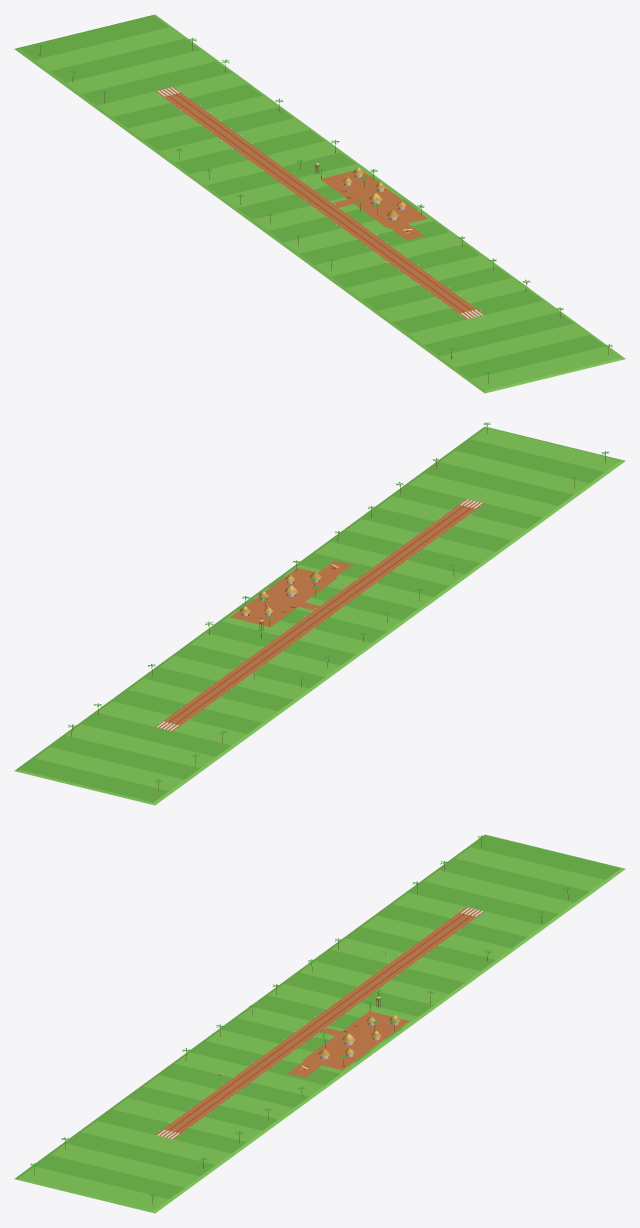
Rendered from AeropuertoJungla.fbx.
The picture shows the model from 3 angles, top to bottom: view 1: azimuth 30°, elevation 25°; view 2: azimuth 150°, elevation 25°; view 3: azimuth 330°, elevation 25°; orthographic projection.
Visible parts, largest first — view 1: AeropuertoJungla; view 2: AeropuertoJungla; view 3: AeropuertoJungla.
Part boxes in pixels (x1,y1,x2,y2): AeropuertoJungla: (14, 14, 625, 393); AeropuertoJungla: (14, 422, 625, 805); AeropuertoJungla: (14, 834, 625, 1213).
Size of the model in its own units: 314 by 29.1 by 1814.
Materials: 1 (1 with a texture image).
